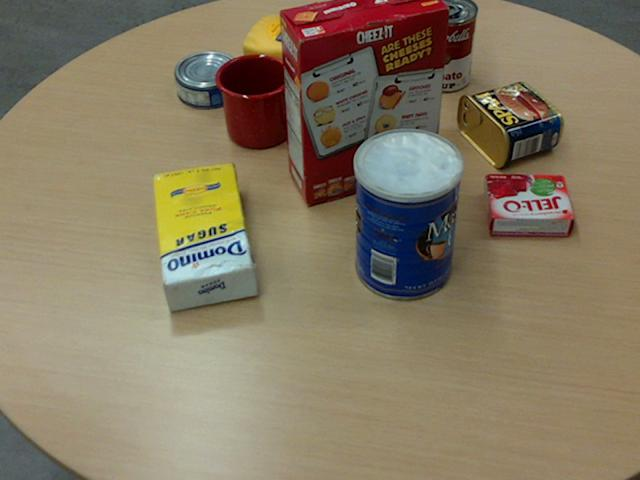cracker_box: (278, 0, 449, 203)
gelatin_box: (484, 172, 573, 234)
large_marker: (389, 31, 409, 121)
master_chef_can: (353, 128, 462, 300)
mug: (214, 53, 310, 147)
mustard_bottle: (242, 13, 391, 87)
potted_meat_can: (455, 81, 562, 167)
sugar_box: (150, 161, 256, 311)
tomato_soup_can: (420, 0, 477, 90)
tuna_fish_can: (173, 49, 241, 107)
